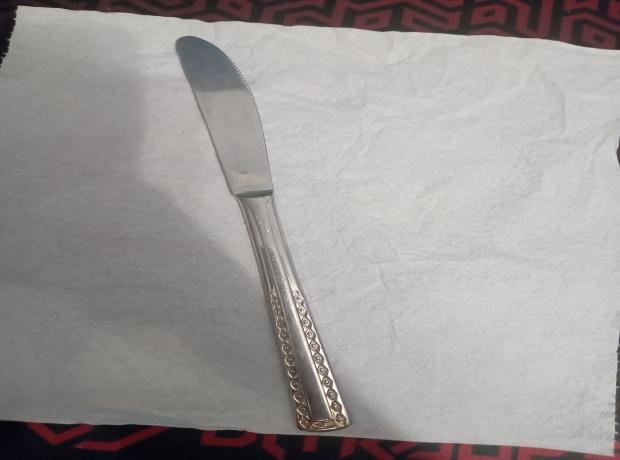metal: (174, 36, 353, 431)
